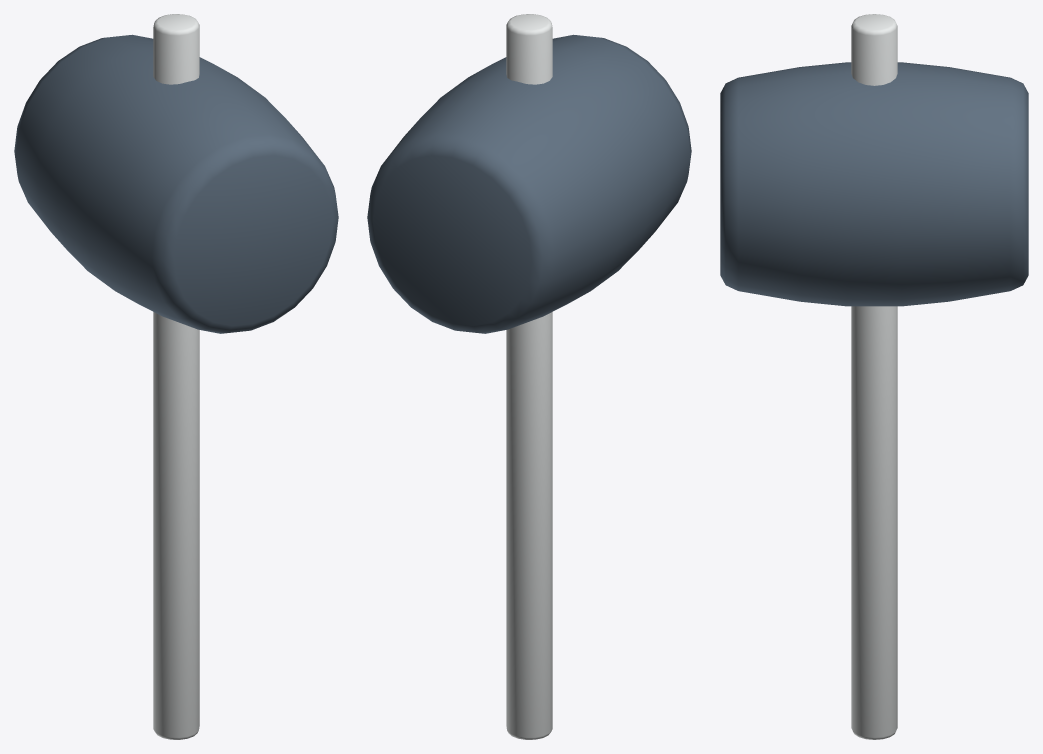
Rendered from Weapon_001.fbx.
3 renders of one model, left to right at view 1: azimuth 30°, elevation 25°; view 2: azimuth 150°, elevation 25°; view 3: azimuth 270°, elevation 25°, orthographic.
Visible parts, largest first — view 1: Weapon_001; view 2: Weapon_001; view 3: Weapon_001.
Boxes of the visible parts, x1,y1,x2,y2 form: Weapon_001: (14, 14, 338, 739); Weapon_001: (367, 14, 691, 739); Weapon_001: (720, 14, 1028, 739).
Size of the model in its own units: 0.6266 by 2 by 0.7879.
